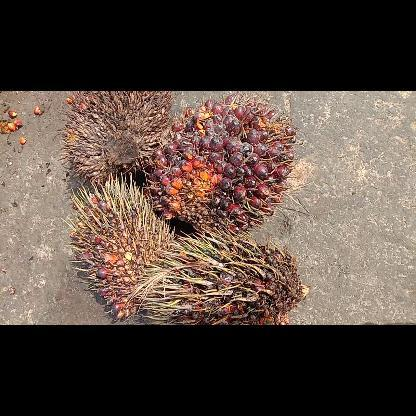Kurang masak: (128, 238, 310, 324)
TBS abnormal: (68, 174, 176, 320), (58, 90, 172, 182)
Terlalu masak: (142, 90, 298, 235)
